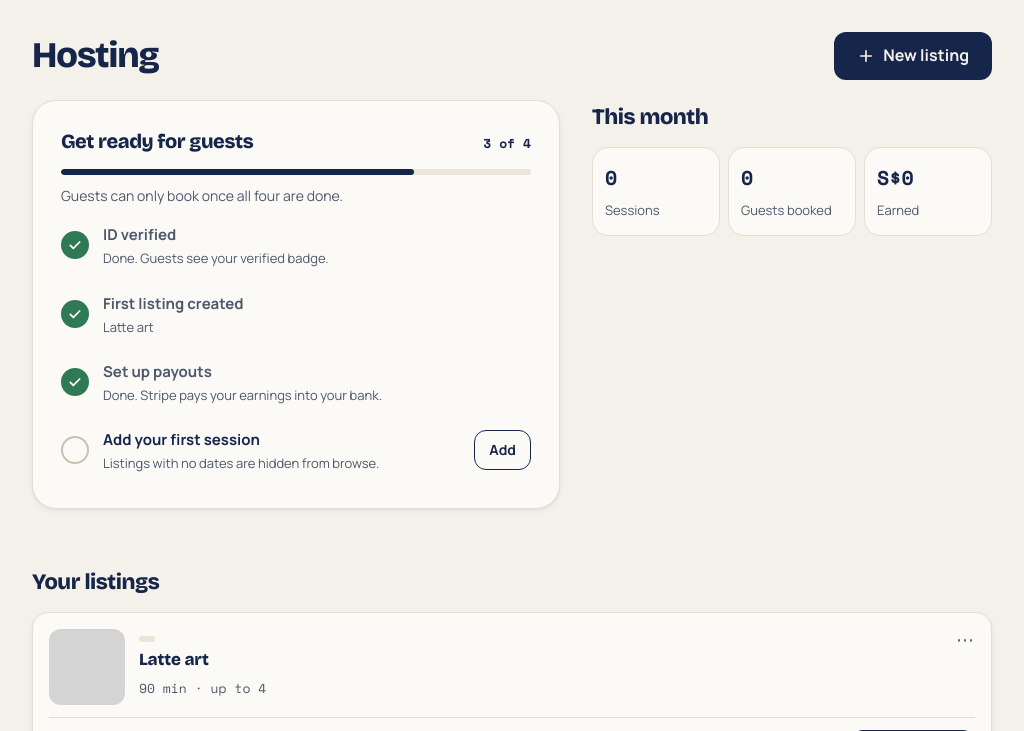
Test: Dashboard listings › maps an active-bookings RPC error to a cancel-those-sessions line
Check: the heading "Hosting" is shown, box [32,36,159,76]
Click the button named "More actions" at coordinates (965, 639), box [947,621,983,657]
(page scrolled)
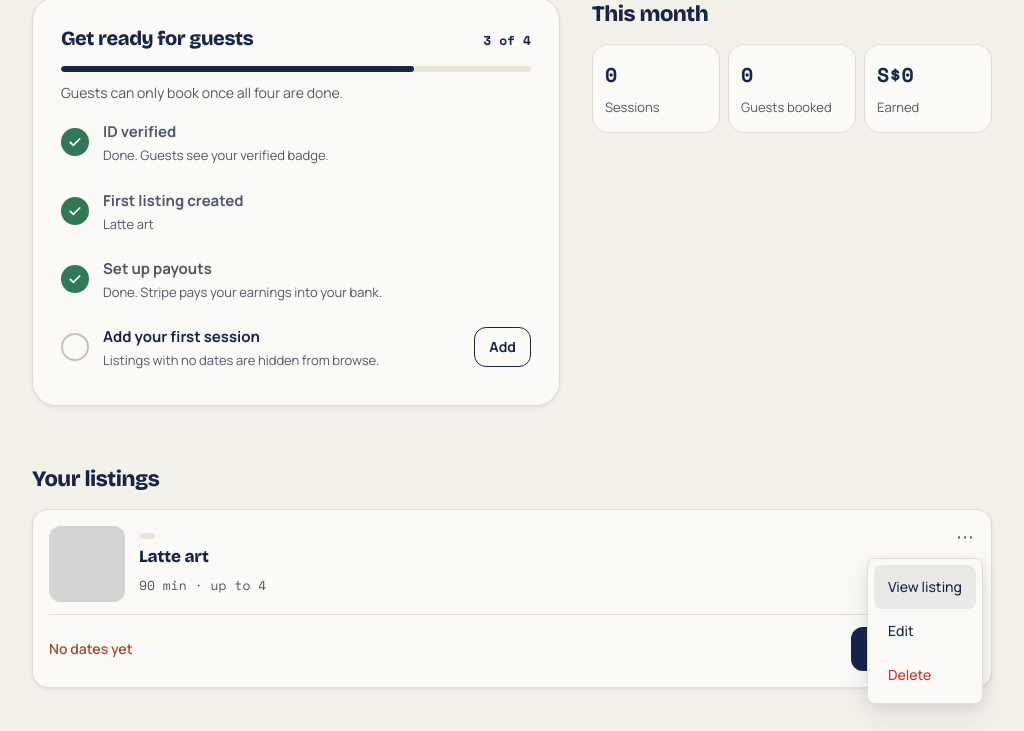
Click the menu item "Delete" at coordinates (925, 675), box [874,653,976,697]
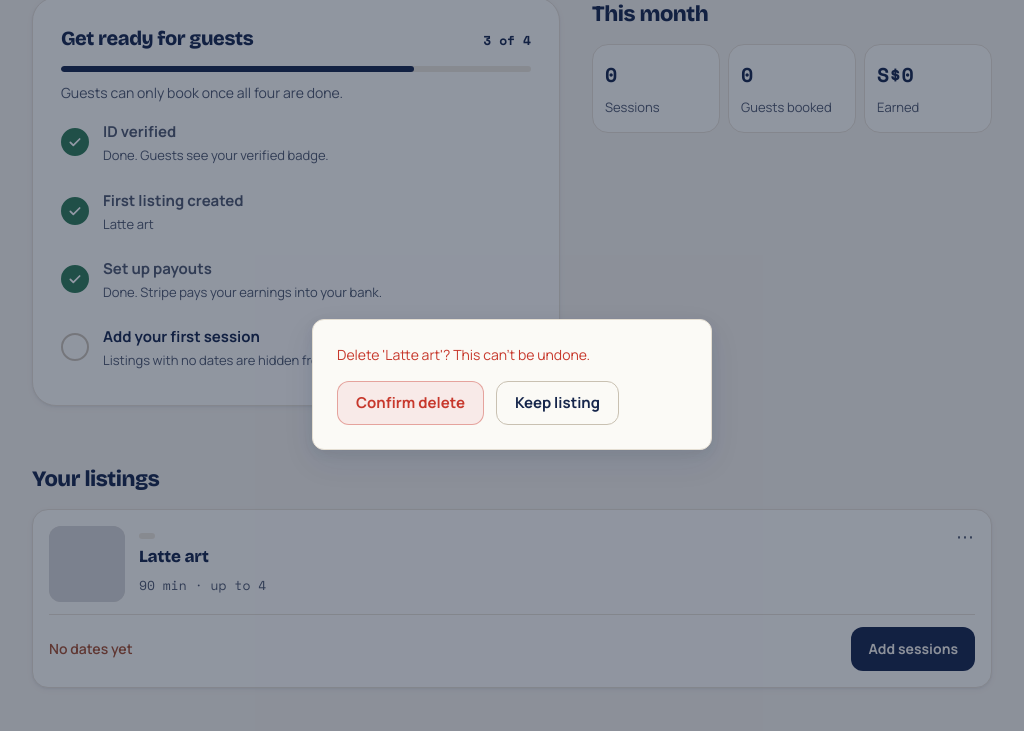
Click the button "Confirm delete" at coordinates (410, 402), box [337,380,484,424]
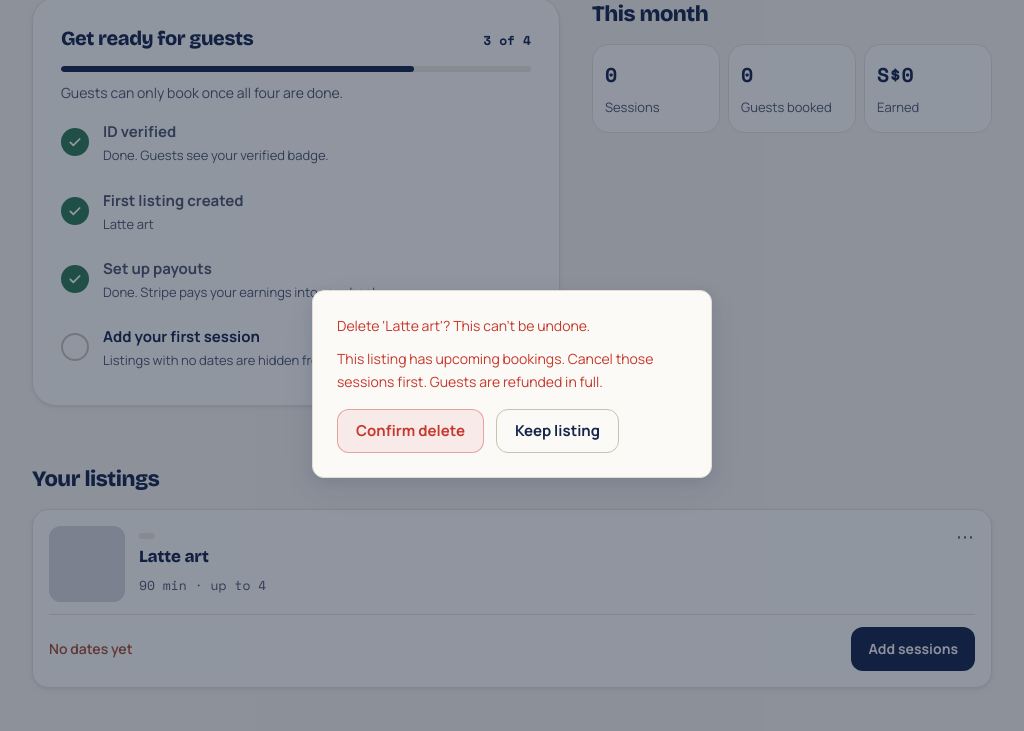
Check: the element showing "⋯ Latte art 90 min · up to 4 No dates yet Add sessions" is shown, box [32,509,992,688]
Check: the message shows "This listing has upcoming bookings. Cancel those sessions first. Guests are refunded in full.", box [337,349,653,390]
